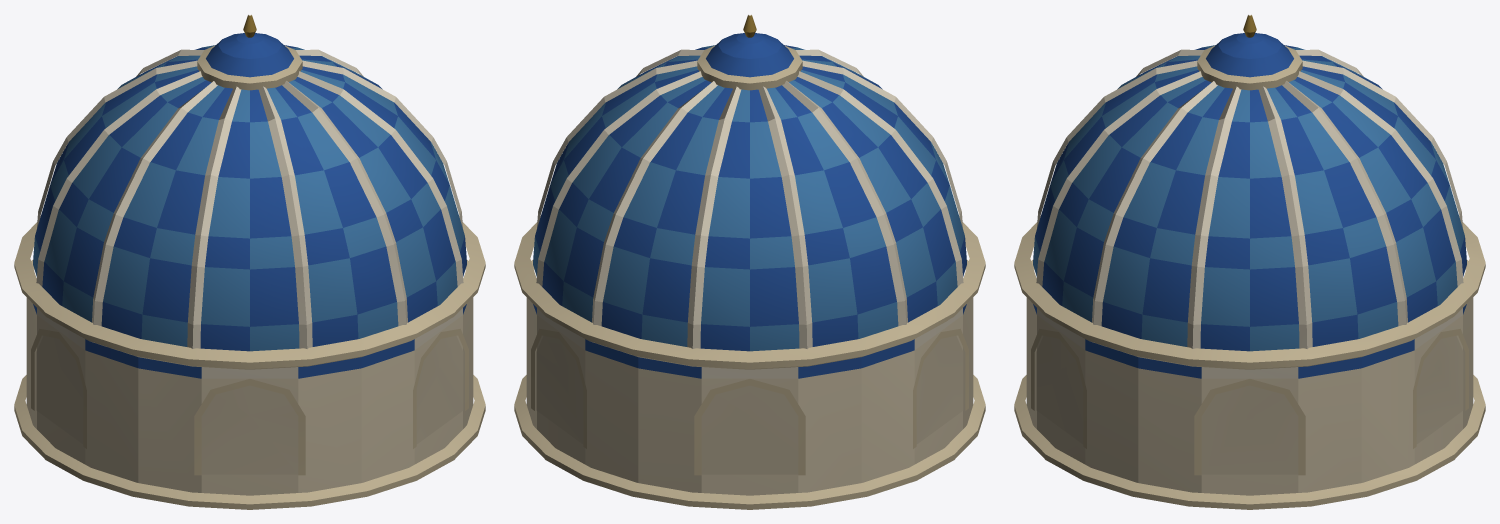
The model's file is dome.closed_12.blue.glb.
3 views of the same model, side by side, from view 1: azimuth 30°, elevation 25°; view 2: azimuth 150°, elevation 25°; view 3: azimuth 270°, elevation 25° (orthographic).
Visible parts, largest first — view 1: dome_closed_12_blue; view 2: dome_closed_12_blue; view 3: dome_closed_12_blue.
Part boxes in pixels (x1,y1,x2,y2): dome_closed_12_blue: (14, 15, 485, 509); dome_closed_12_blue: (514, 15, 985, 509); dome_closed_12_blue: (1014, 15, 1485, 509).
Size of what is drawn, in the model's own units: 7.6 by 7.03 by 7.6.
